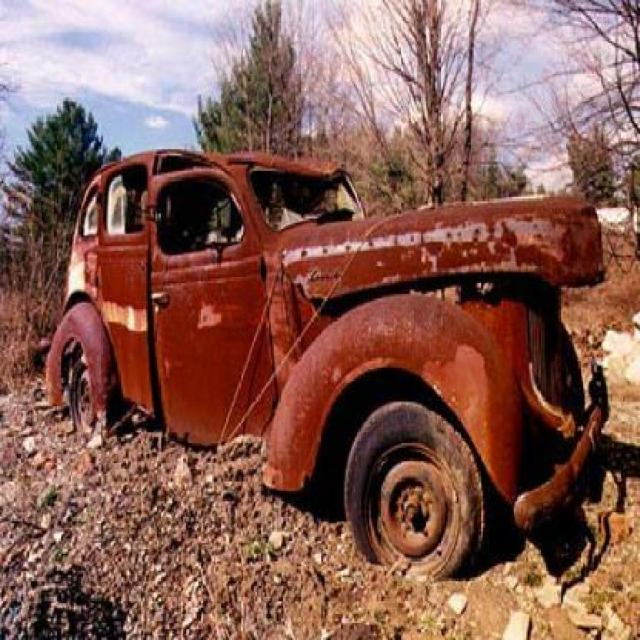corrosion: (49, 145, 608, 586)
